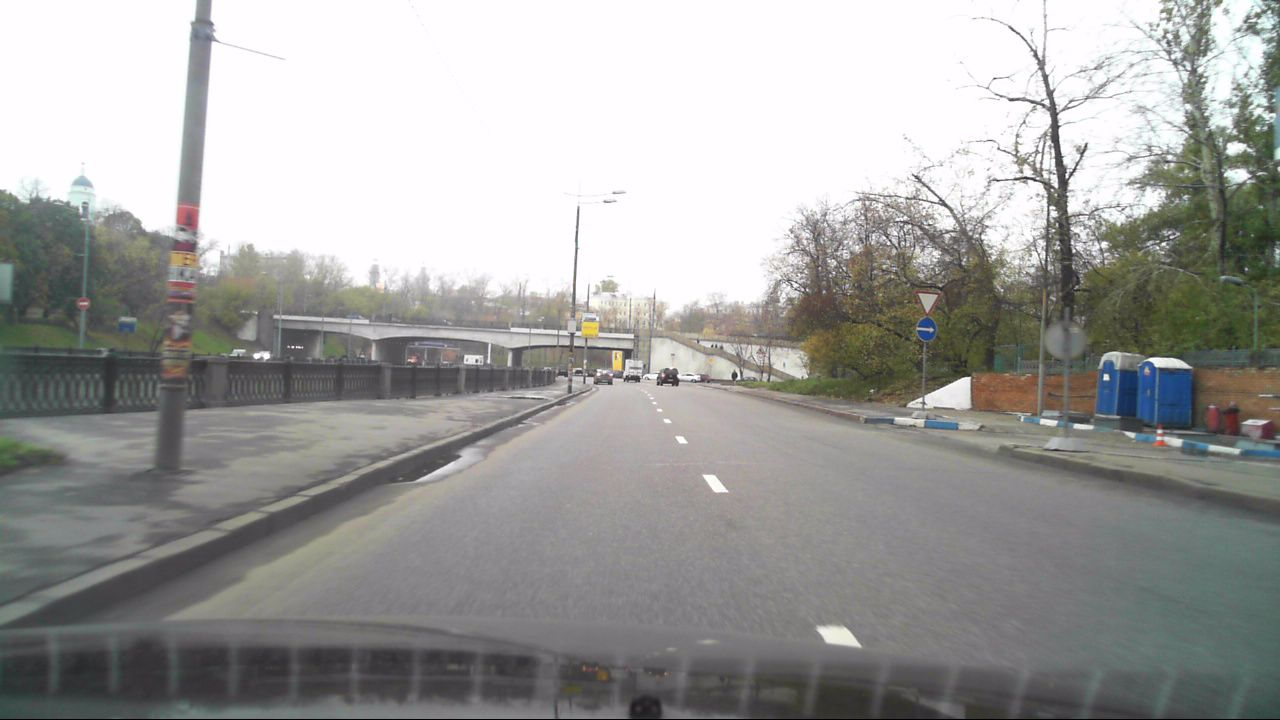Turn Right: (916, 317, 937, 342)
